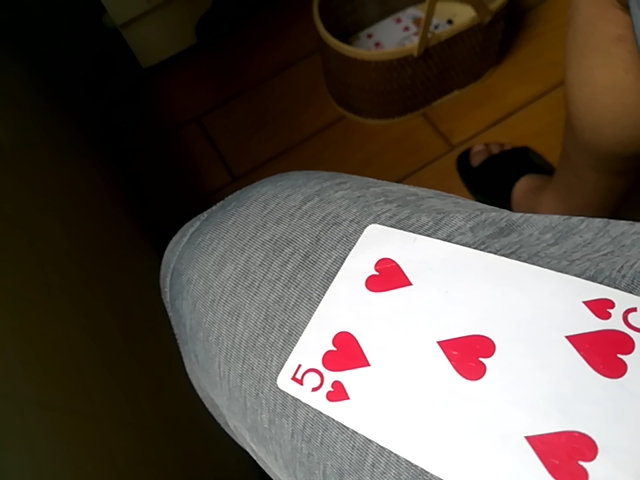hx 5: (274, 219, 640, 480)
